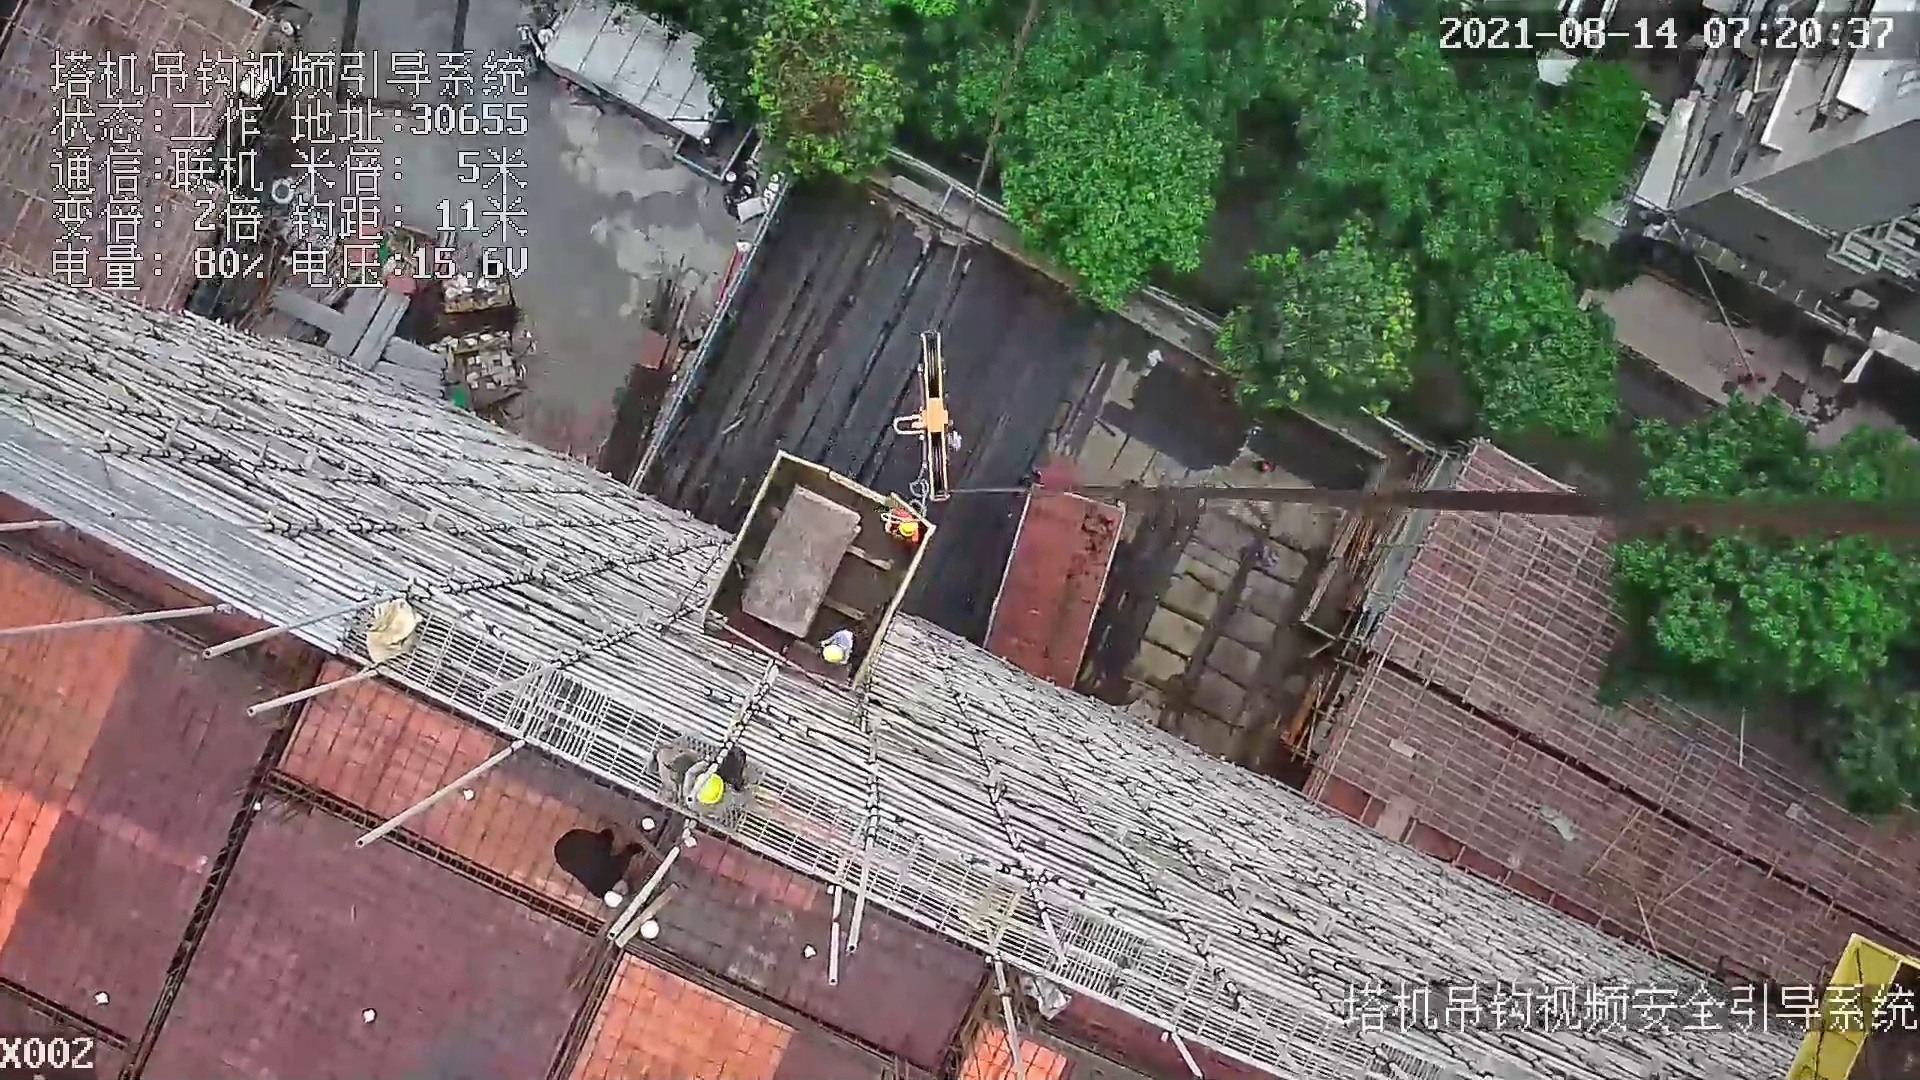helmet: (693, 776, 726, 803), (822, 642, 845, 663), (900, 520, 916, 537)
person: (542, 824, 650, 913), (695, 750, 750, 823), (874, 500, 923, 544), (818, 627, 854, 665)
